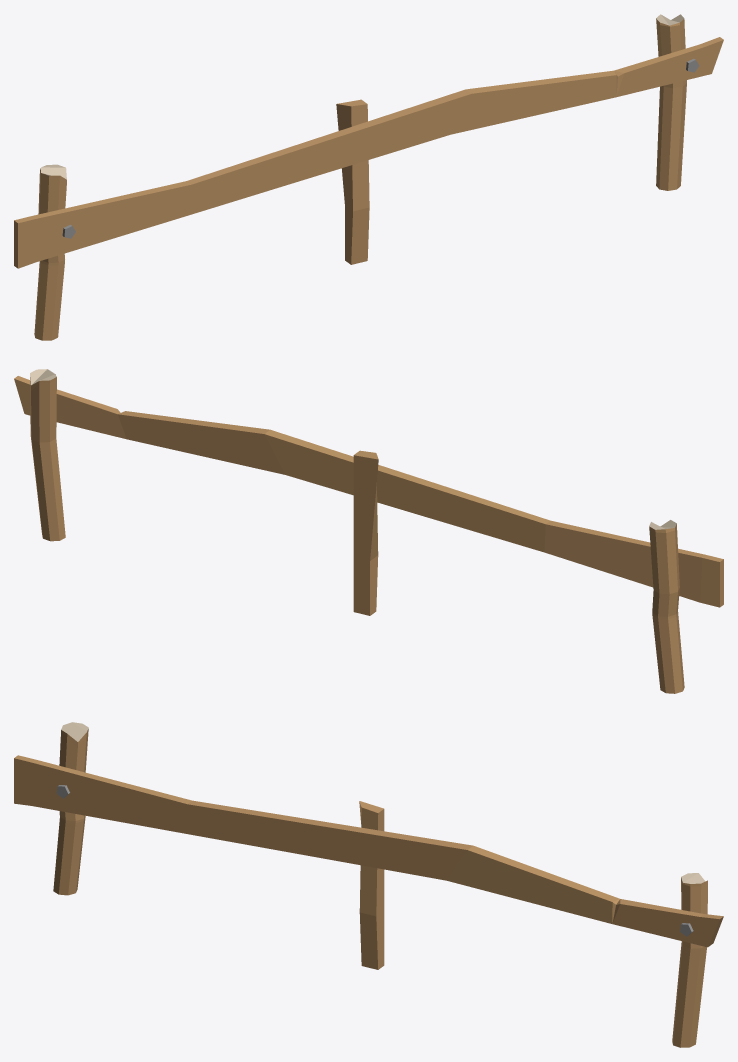
File: Fence_5.fbx
The picture shows the model from 3 angles, top to bottom: view 1: azimuth 30°, elevation 25°; view 2: azimuth 150°, elevation 25°; view 3: azimuth 330°, elevation 25°; orthographic projection.
Parts seen in each view (by area): view 1: Fence_5; view 2: Fence_5; view 3: Fence_5.
Part boxes in pixels (x1,y1,x2,y2): Fence_5: (14, 14, 723, 340); Fence_5: (14, 369, 723, 693); Fence_5: (14, 722, 723, 1047).
Size of the model in its own units: 575 by 32.44 by 128.
